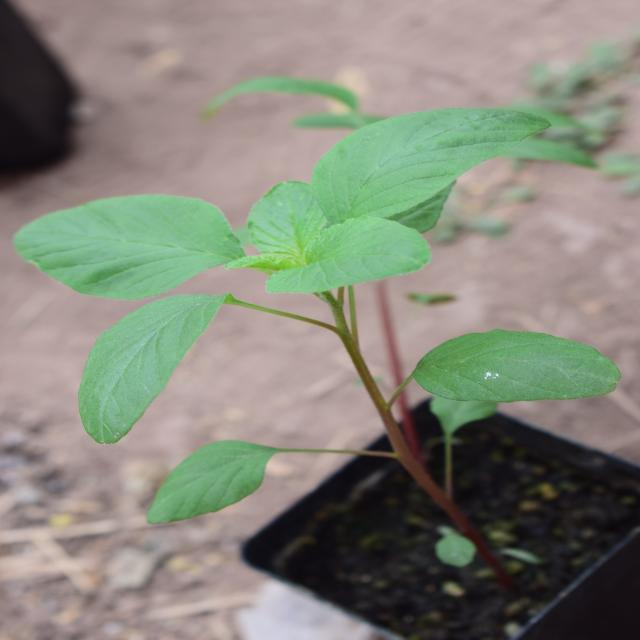pigweed: (104, 29, 538, 564)
